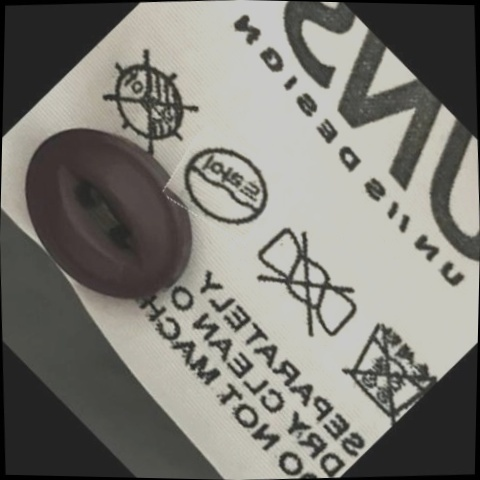DN_dry: (101, 53, 199, 152)
DN_wring: (252, 231, 362, 341)
dry_clean: (181, 141, 269, 232)
hand_wash: (341, 316, 432, 417)
